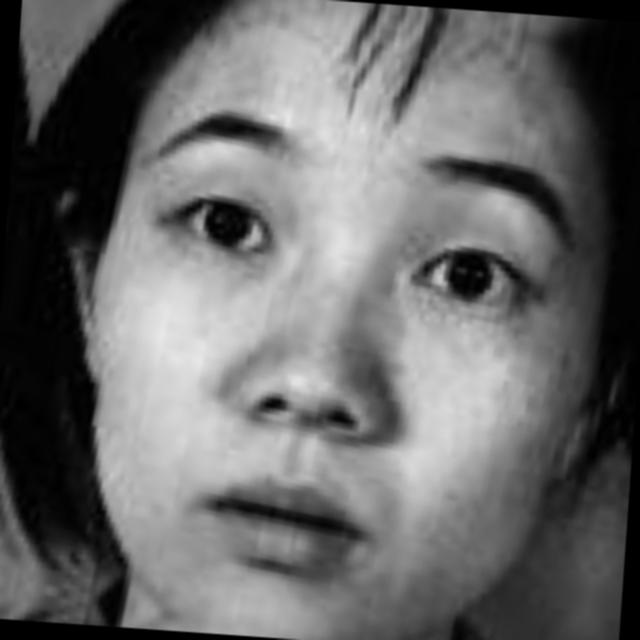surprise: (75, 9, 588, 640)
